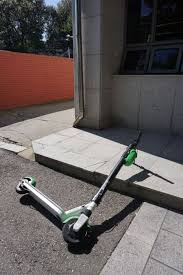fallin_kick: (17, 130, 141, 244)
